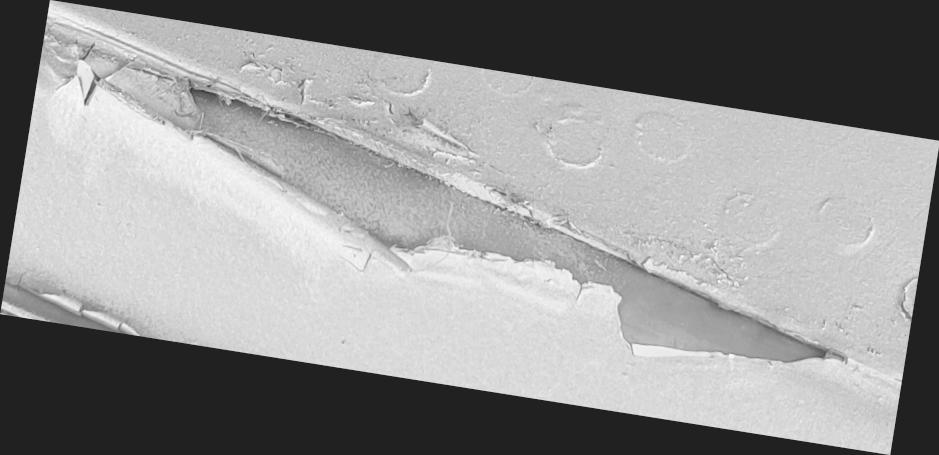paint-off: (0, 1, 939, 455)
